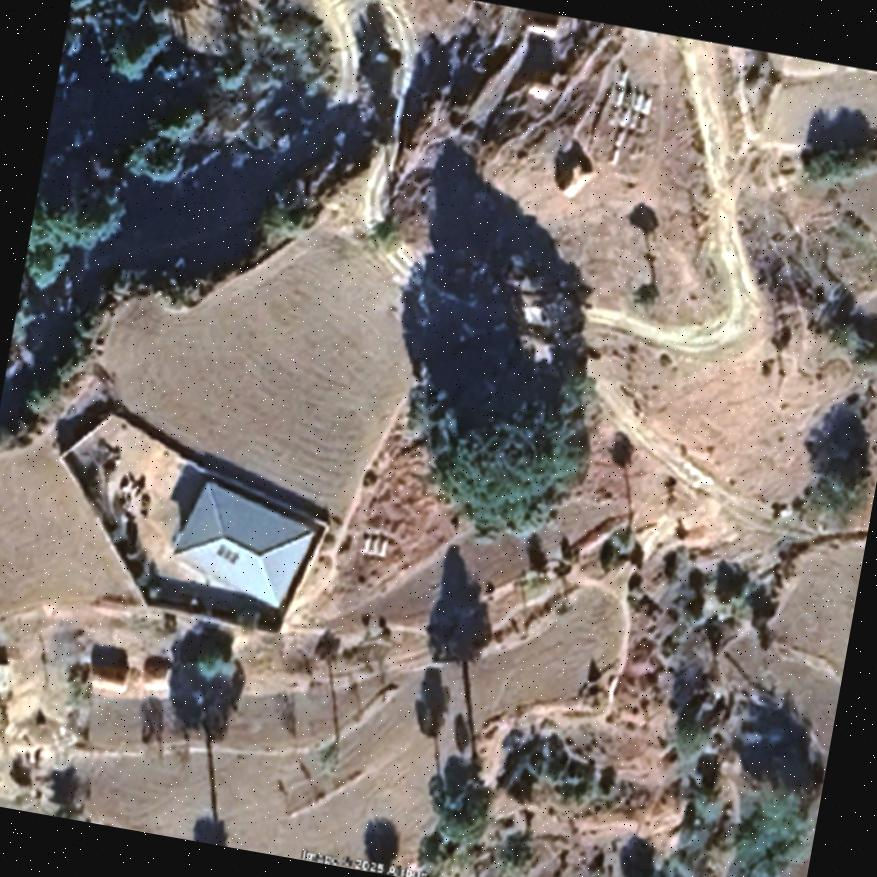Solarpanel: (214, 541, 240, 563)
